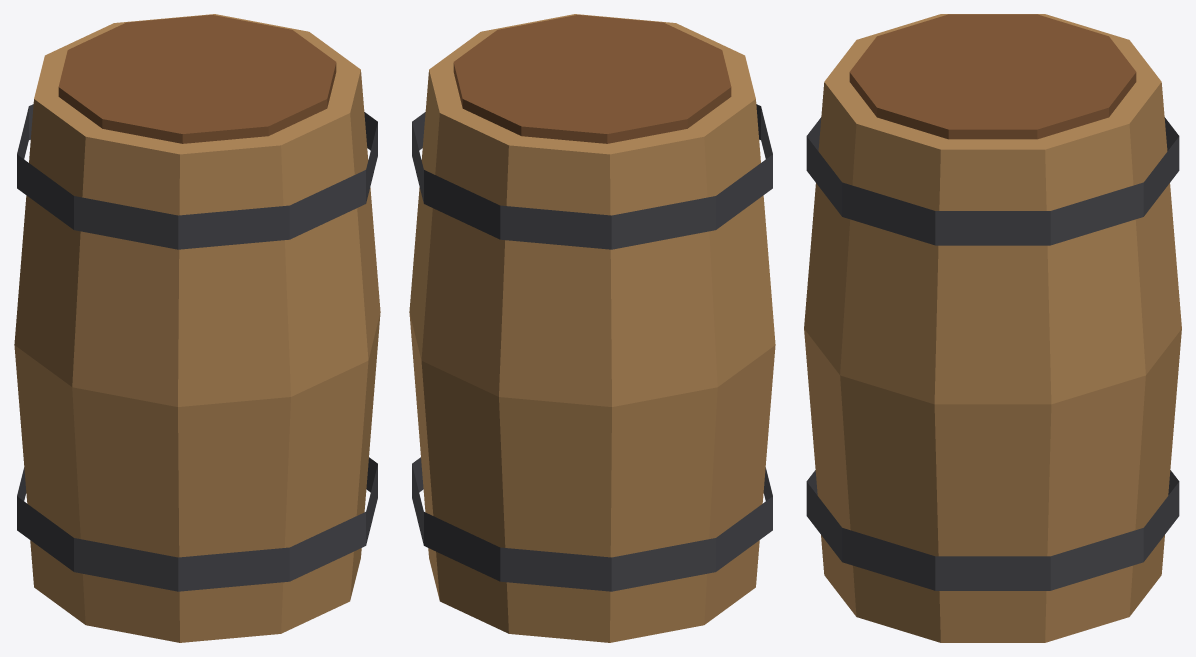
Rendered from Fass.fbx.
The picture shows the model from 3 angles, left to right: view 1: azimuth 30°, elevation 25°; view 2: azimuth 150°, elevation 25°; view 3: azimuth 270°, elevation 25°; orthographic projection.
Visible parts, largest first — view 1: Fass; view 2: Fass; view 3: Fass.
Part boxes in pixels (x1,y1,x2,y2): Fass: [14, 14, 380, 642]; Fass: [409, 14, 775, 642]; Fass: [804, 14, 1181, 642].
Size of the model in its own units: 0.6604 by 1.02 by 0.6944.
